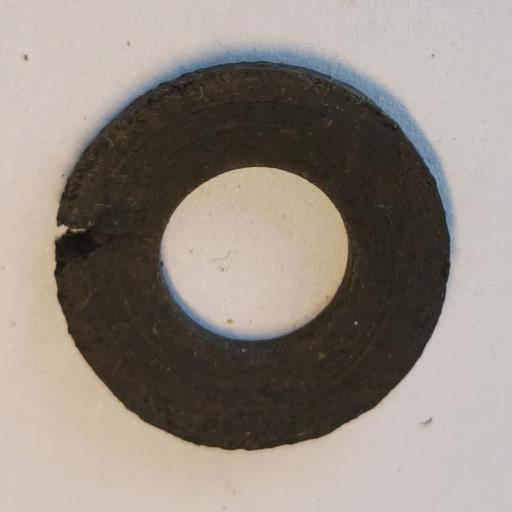defect: (51, 221, 105, 268)
